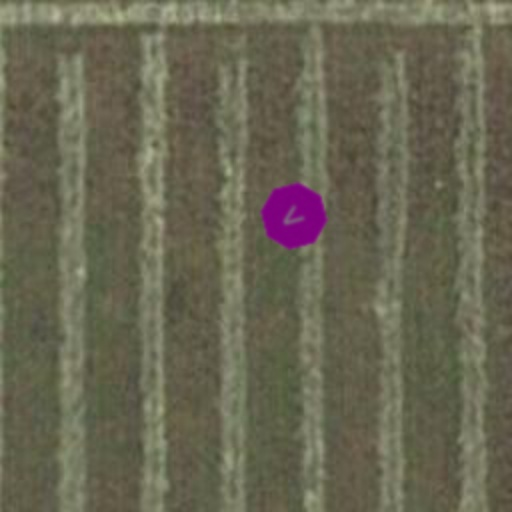octagon: (246, 168, 342, 264)
